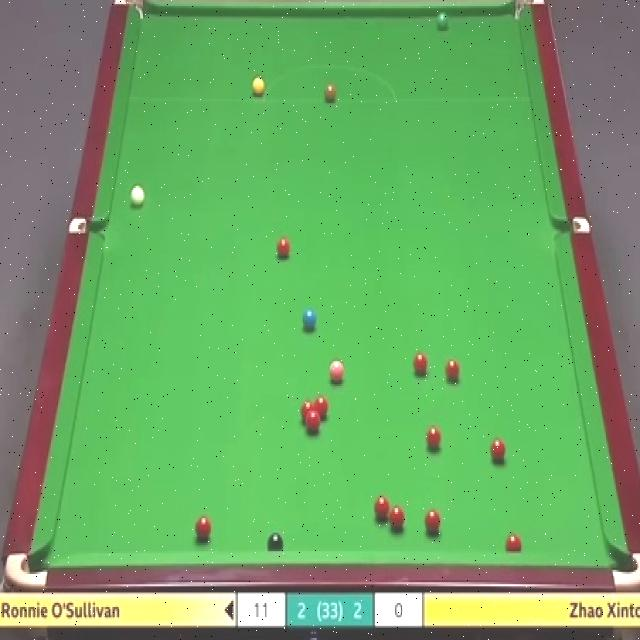black-ball: (266, 532, 286, 553)
blue-ball: (301, 308, 319, 330)
brown-ball: (324, 80, 336, 101)
green-ball: (436, 12, 450, 32)
pink-ball: (328, 360, 346, 386)
red-ball: (412, 350, 430, 377), (424, 510, 442, 537), (194, 514, 211, 542), (373, 496, 390, 522), (491, 437, 508, 463), (444, 354, 459, 382), (300, 400, 315, 426), (426, 424, 441, 450), (277, 235, 290, 262), (314, 396, 328, 420), (504, 532, 522, 550), (306, 414, 322, 434), (391, 497, 404, 518)
white-ball: (130, 185, 144, 209)
yellow-ball: (251, 78, 264, 95)
